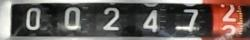digits: (220, 3, 238, 39), (175, 8, 199, 32), (102, 7, 120, 31), (64, 7, 81, 29), (25, 7, 41, 30), (142, 10, 158, 32)
